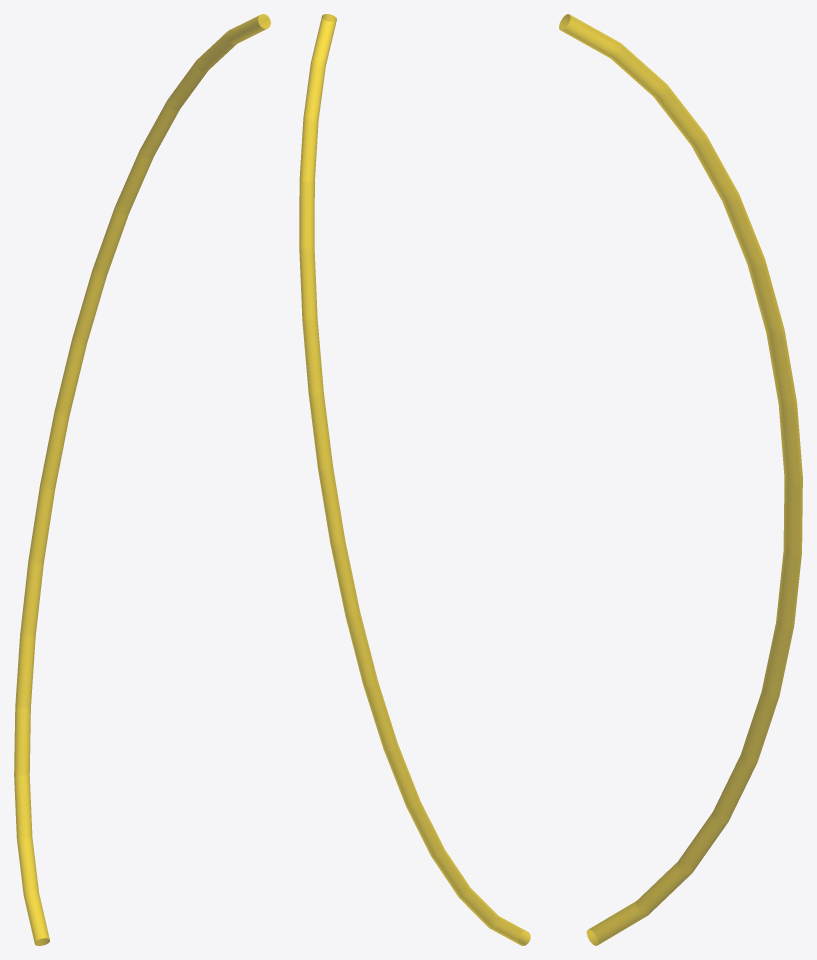
The model's file is Event_27938768_track_87.fbx.
3 renders of one model, left to right at view 1: azimuth 30°, elevation 25°; view 2: azimuth 150°, elevation 25°; view 3: azimuth 270°, elevation 25°, orthographic. The views are drawn at different scales.
Parts seen in each view (by area): view 1: Model; view 2: Model; view 3: Model.
Part boxes in pixels (x1=…): Model: x1=14, y1=14, x2=270, y2=945; Model: x1=299, y1=14, x2=530, y2=945; Model: x1=559, y1=14, x2=802, y2=945.
Size of the model in its own units: 0.6566 by 2.5 by 0.5254.
